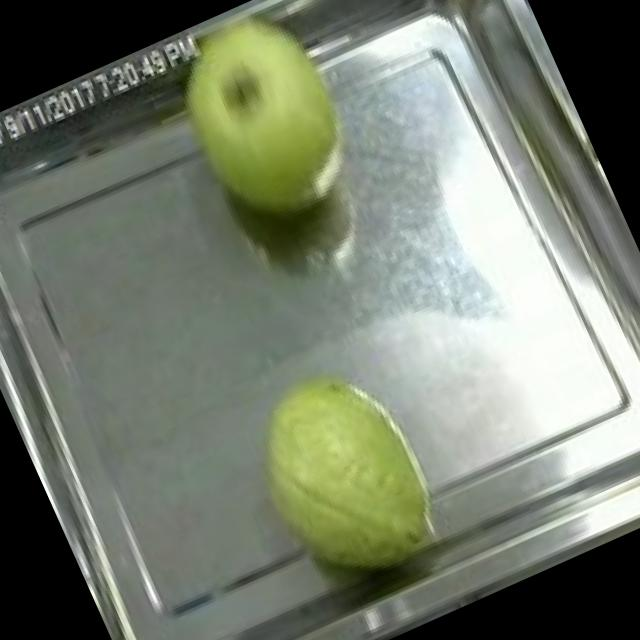Fruit: (218, 333, 470, 612), (136, 0, 389, 257)
